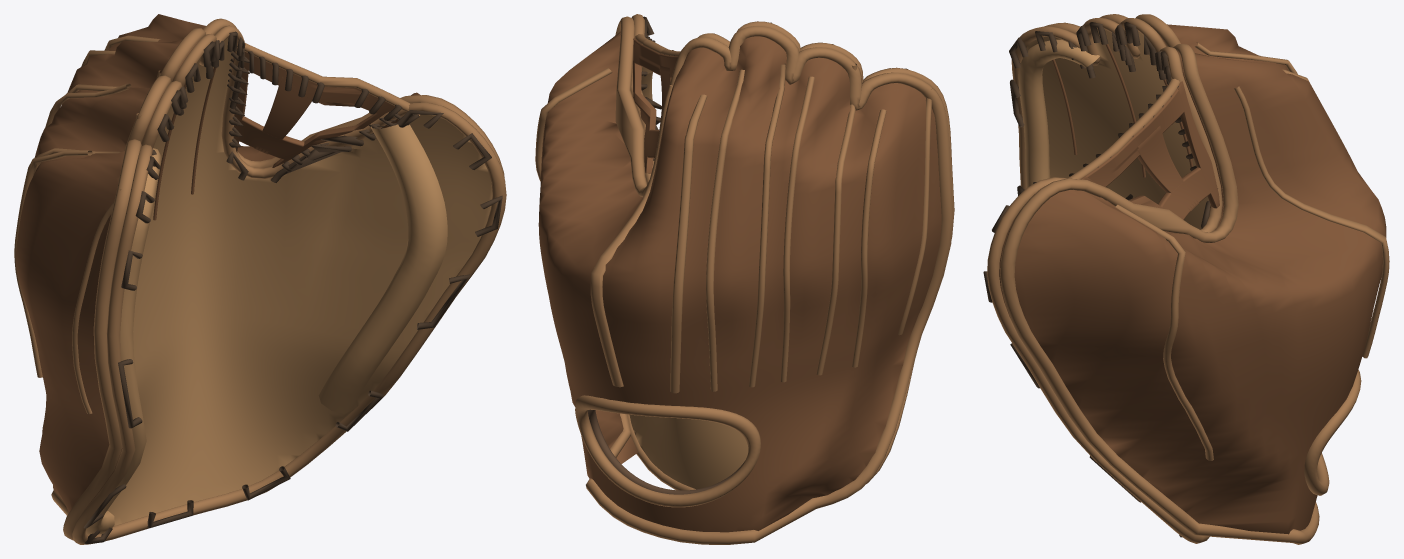
The model's file is field-glove.glb.
3 views of the same model, side by side, from view 1: azimuth 30°, elevation 25°; view 2: azimuth 150°, elevation 25°; view 3: azimuth 270°, elevation 25° (orthographic). The views are drawn at different scales.
Visible parts, largest first — view 1: field glove; view 2: field glove; view 3: field glove.
Boxes of the visible parts, left/top/right/bottom form: field glove: left=14, top=14, right=506, bottom=544; field glove: left=535, top=14, right=954, bottom=544; field glove: left=983, top=14, right=1389, bottom=544.
Bounding box in the file's own units: 0.2376 × 0.2957 × 0.2197.
